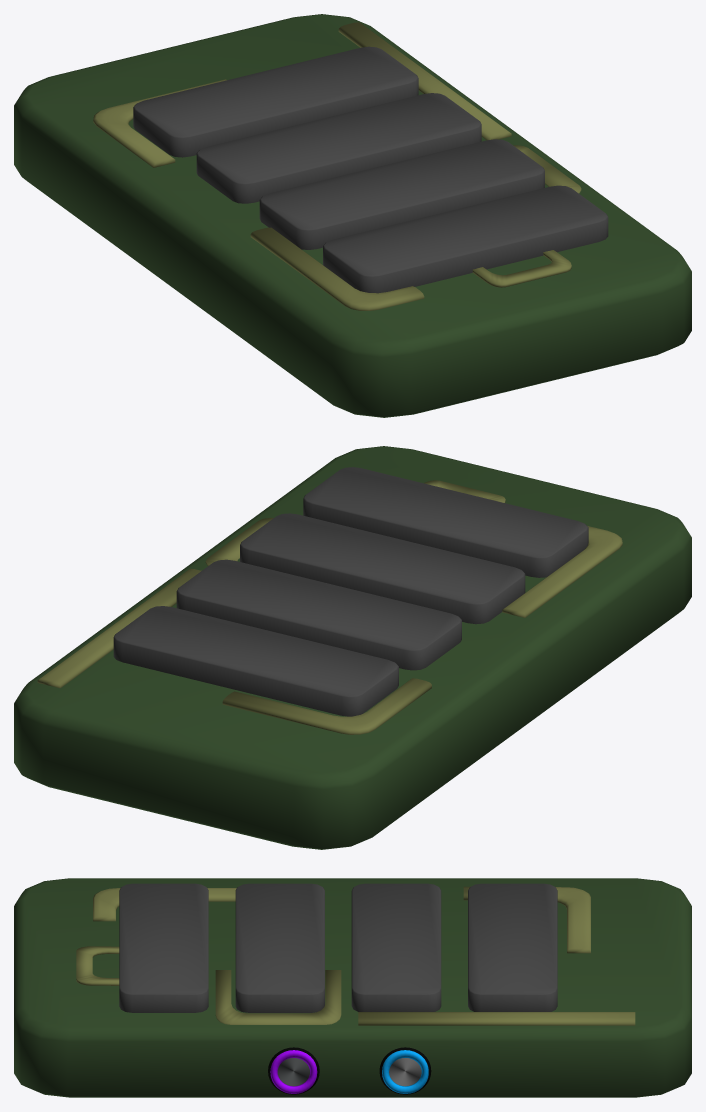
Rendered from RAM.glb.
The picture shows the model from 3 angles, top to bottom: view 1: azimuth 30°, elevation 25°; view 2: azimuth 150°, elevation 25°; view 3: azimuth 270°, elevation 25°; orthographic projection. The views are drawn at different scales.
Parts seen in each view (by area): view 1: Cube, Cube.001, Cube.002; view 2: Cube, Cube.001, Cube.002; view 3: Cube, Cube.001, Cube.002, Cylinder.001, Cylinder.
Part boxes in pixels (bbox=[...]): Cube: bbox=[14, 14, 691, 417]; Cube.001: bbox=[133, 46, 608, 293]; Cube.002: bbox=[93, 22, 581, 310]; Cube: bbox=[14, 446, 691, 849]; Cube.001: bbox=[113, 467, 588, 716]; Cube.002: bbox=[37, 480, 622, 734]; Cube: bbox=[14, 878, 691, 1097]; Cube.001: bbox=[119, 883, 557, 1012]; Cube.002: bbox=[76, 886, 635, 1025]; Cylinder.001: bbox=[268, 1047, 319, 1094]; Cylinder: bbox=[379, 1047, 431, 1094].
Bounding box in the file's own units: 1.48 × 0.3706 × 2.64.
